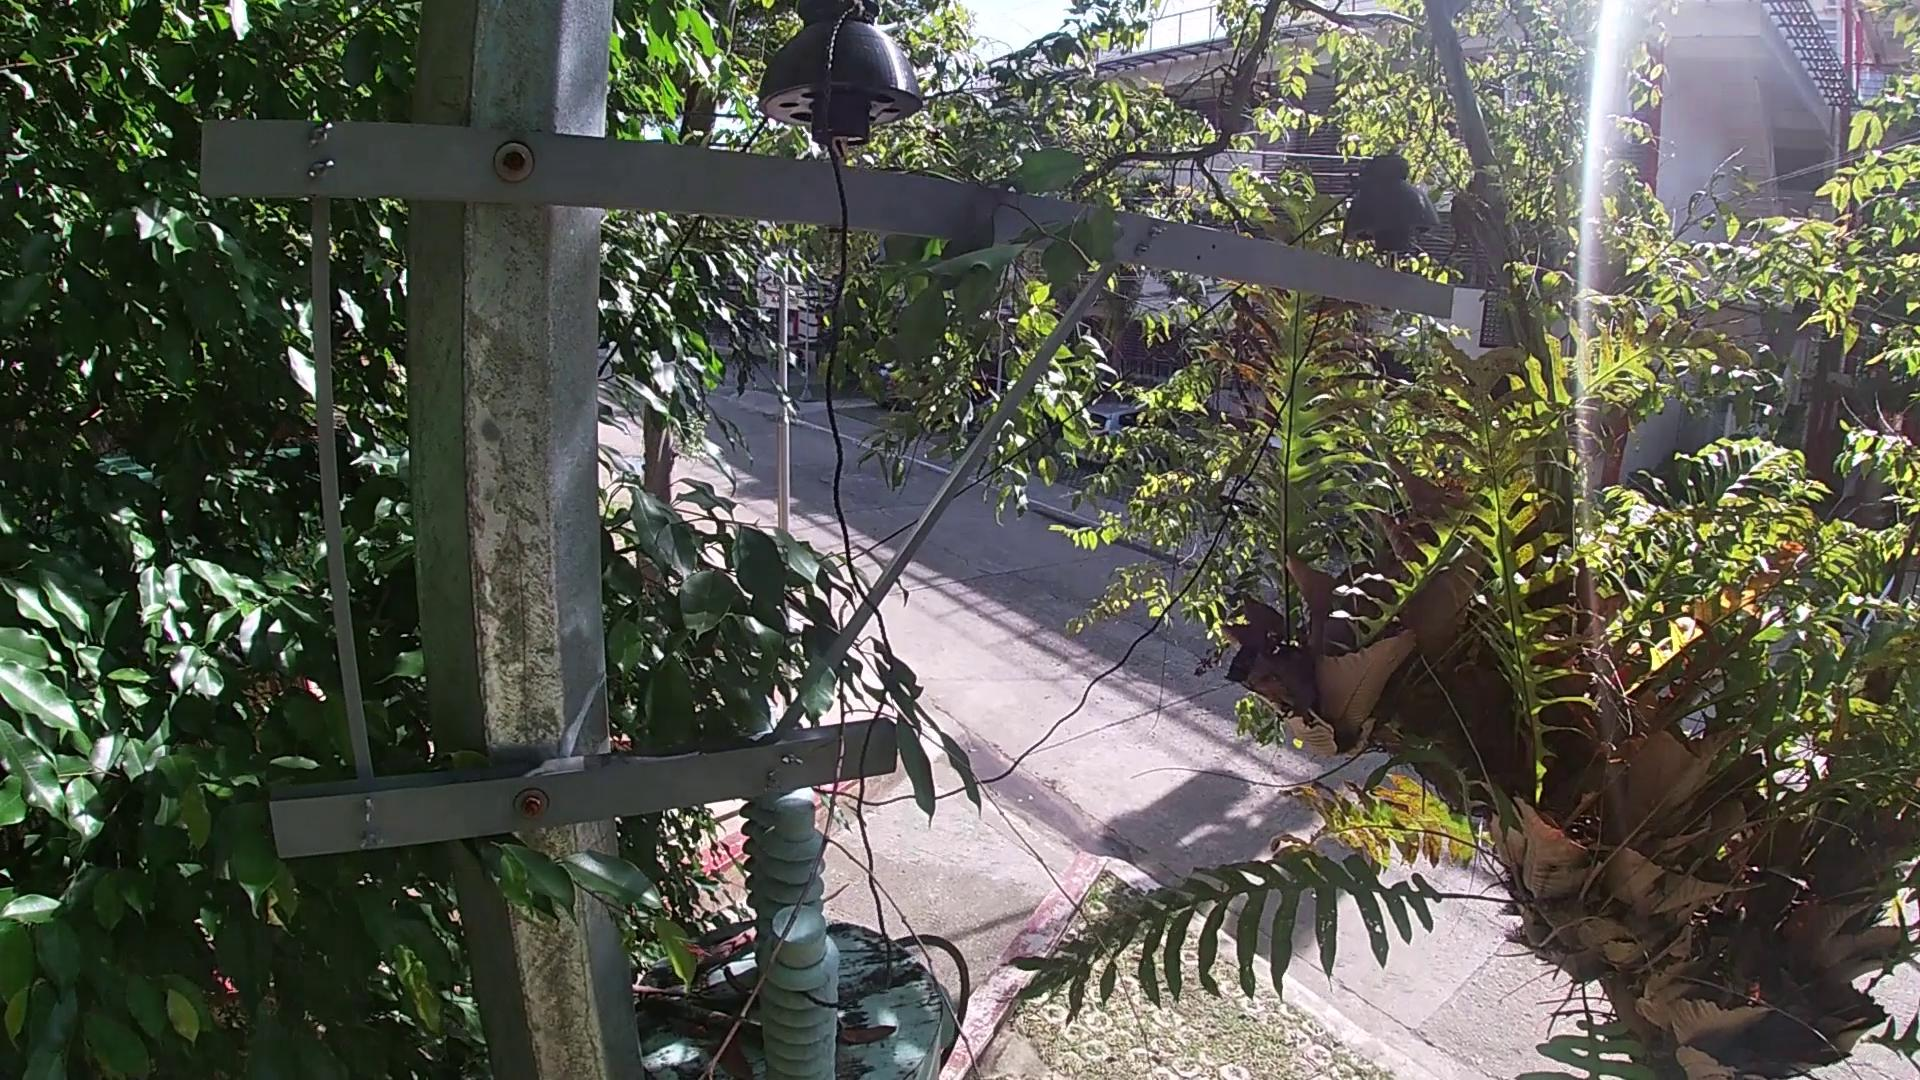mahogany fruit: (825, 1027, 905, 1044), (716, 963, 756, 986)
tree branch: (717, 622, 1185, 1067), (633, 996, 769, 1040), (674, 922, 771, 963), (624, 985, 748, 996)
